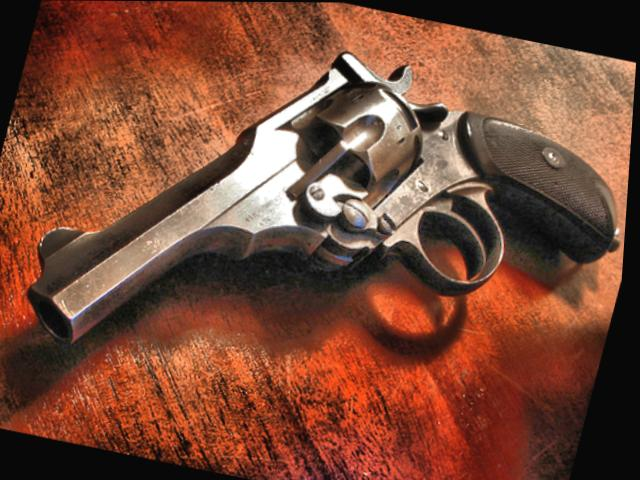pistol: (9, 0, 640, 451)
